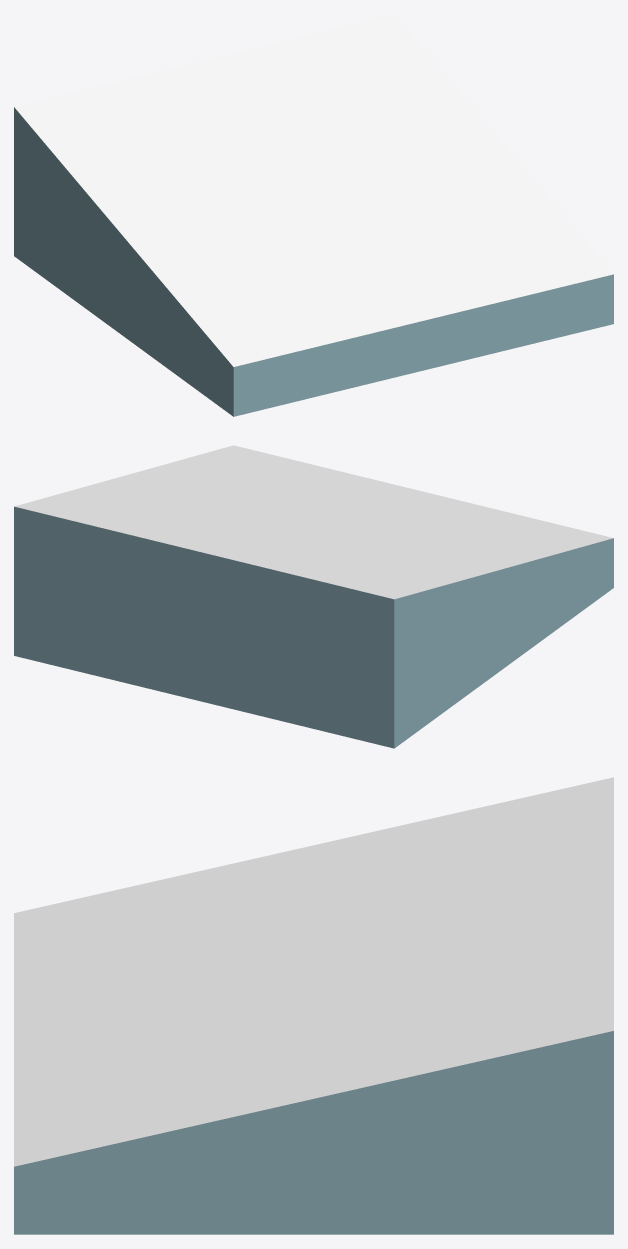
Rendered from Terrain_Tile_Ice_Snow_Ramp_High_01.fbx.
3 renders of one model, top to bottom at view 1: azimuth 30°, elevation 25°; view 2: azimuth 150°, elevation 25°; view 3: azimuth 270°, elevation 25°, orthographic. The views are drawn at different scales.
Parts seen in each view (by area): view 1: Model; view 2: Model; view 3: Model.
Boxes of the visible parts, box(x1,y1,x2,y2) form: Model: box(14, 14, 613, 416); Model: box(14, 445, 613, 748); Model: box(14, 777, 613, 1234).
Size of the model in its own units: 2000 by 750 by 2000.
